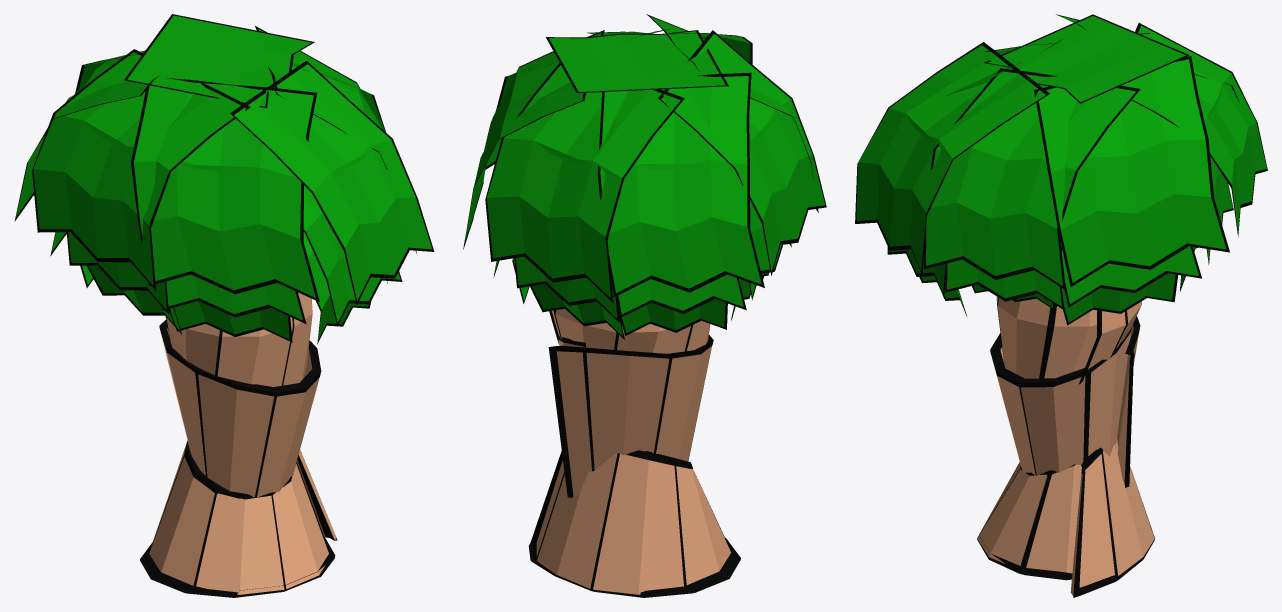
Rendered from CardboardTree05.fbx.
The picture shows the model from 3 angles, left to right: view 1: azimuth 30°, elevation 25°; view 2: azimuth 150°, elevation 25°; view 3: azimuth 270°, elevation 25°; orthographic projection. The views are drawn at different scales.
Parts seen in each view (by area): view 1: Plane.002; view 2: Plane.002; view 3: Plane.002.
Part boxes in pixels (x1,y1,x2,y2): Plane.002: [14, 14, 434, 597]; Plane.002: [463, 14, 826, 597]; Plane.002: [855, 14, 1267, 597].
Size of the model in its own units: 595 by 875 by 664.
